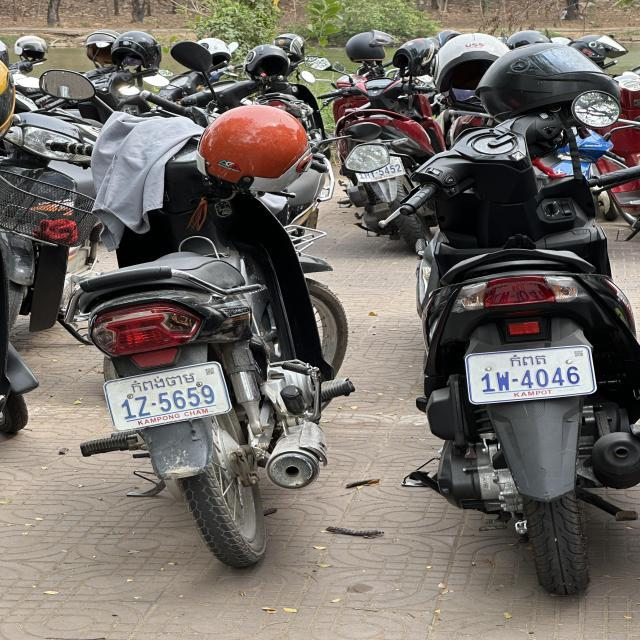Kampong_Cham: (132, 372, 195, 393)
Kampot: (509, 354, 548, 368)
